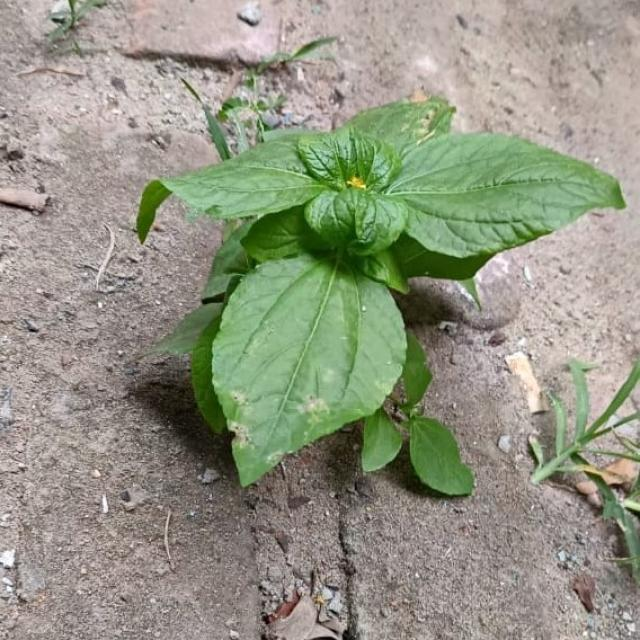weed: (136, 97, 626, 500)
